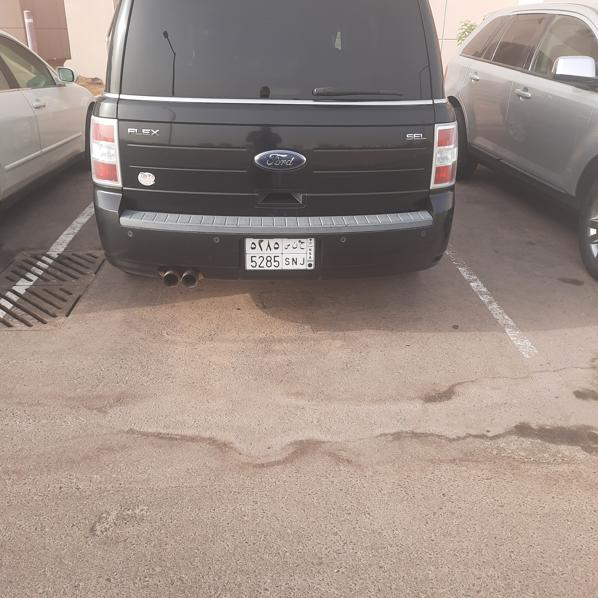numberplate: (245, 238, 315, 270)
